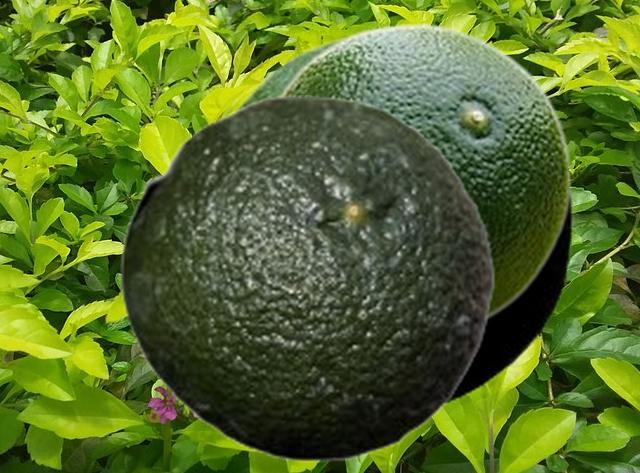calamansi: (119, 95, 495, 461), (226, 32, 572, 410), (274, 22, 572, 323)
